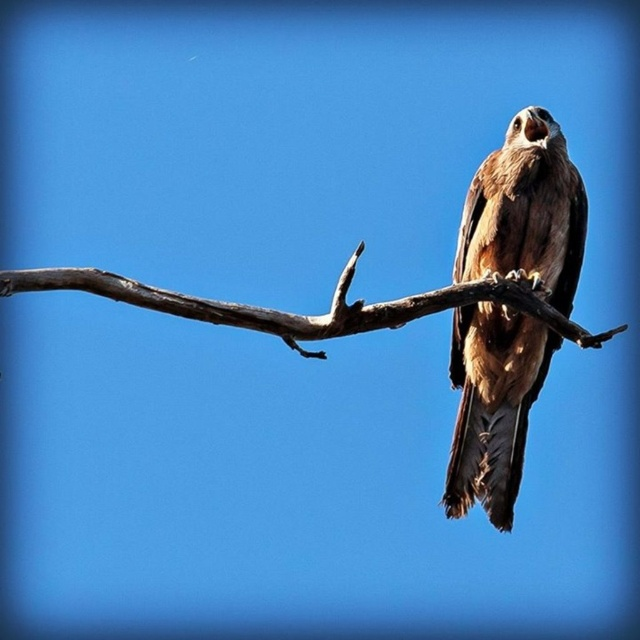Eagle: (437, 105, 589, 535)
